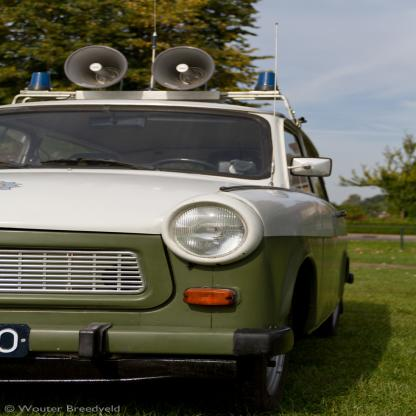Car: (1, 42, 352, 412)
